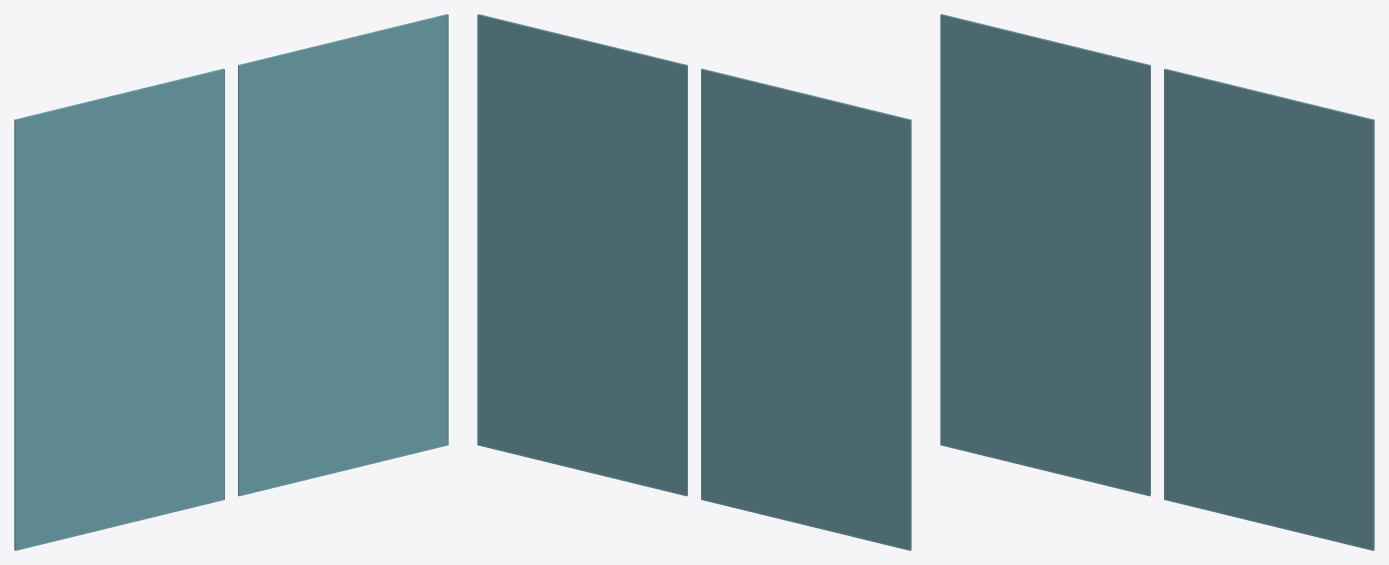
Rendered from Arch_Facade_Glazing_3m.glb.
The picture shows the model from 3 angles, left to right: view 1: azimuth 30°, elevation 25°; view 2: azimuth 150°, elevation 25°; view 3: azimuth 330°, elevation 25°; orthographic projection.
Visible parts, largest first — view 1: Arch_Facade_Glazing_3m; view 2: Arch_Facade_Glazing_3m; view 3: Arch_Facade_Glazing_3m.
Boxes of the visible parts, box(x1,y1,x2,y2) form: Arch_Facade_Glazing_3m: box(14, 14, 448, 550); Arch_Facade_Glazing_3m: box(477, 14, 911, 550); Arch_Facade_Glazing_3m: box(940, 14, 1374, 550).
Size of the model in its own units: 2.79 by 2.65 by 0.014.
